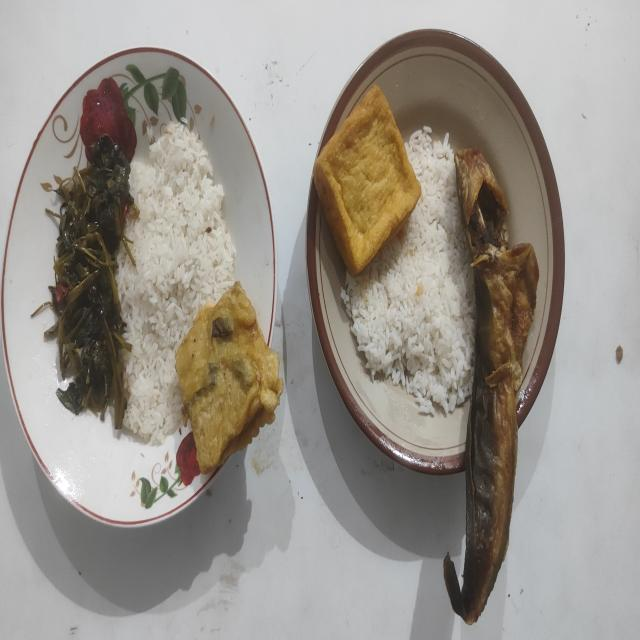nasi_putih: (341, 129, 475, 415), (117, 122, 236, 444)
tahu_goreng: (314, 86, 422, 274)
tumis_kangkung: (44, 135, 134, 429)
